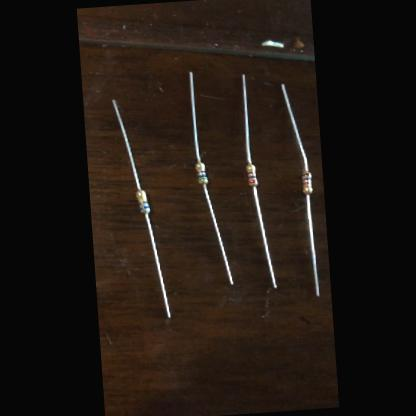resistor: (136, 189, 151, 214), (195, 162, 208, 185), (245, 164, 258, 186), (302, 172, 313, 194)
wire: (203, 184, 233, 286), (112, 98, 141, 190), (146, 212, 170, 318), (252, 186, 276, 288), (281, 83, 308, 173), (306, 195, 320, 297), (190, 72, 202, 162), (240, 74, 252, 164)
